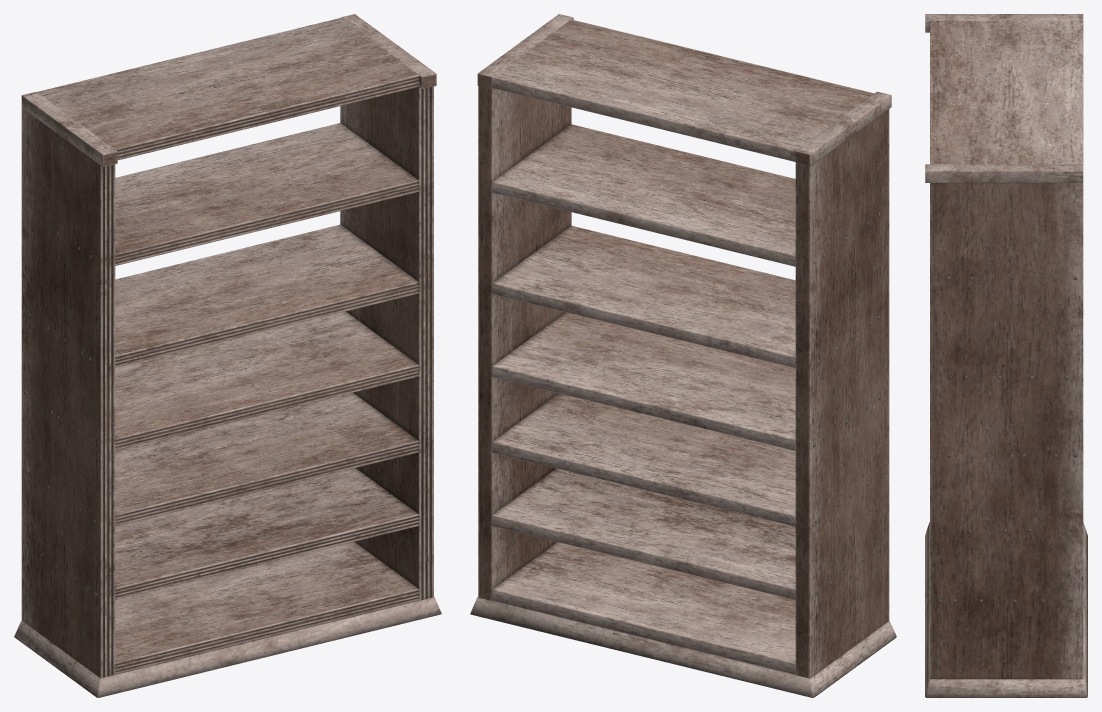
Rendered from wooden_bookshelf_worn.obj.
The picture shows the model from 3 angles, left to right: view 1: azimuth 30°, elevation 25°; view 2: azimuth 150°, elevation 25°; view 3: azimuth 270°, elevation 25°; orthographic projection. The views are drawn at different scales.
Bounding box in the file's own units: 0.6659 × 1 × 0.2817.
1 material, 1 textured.
